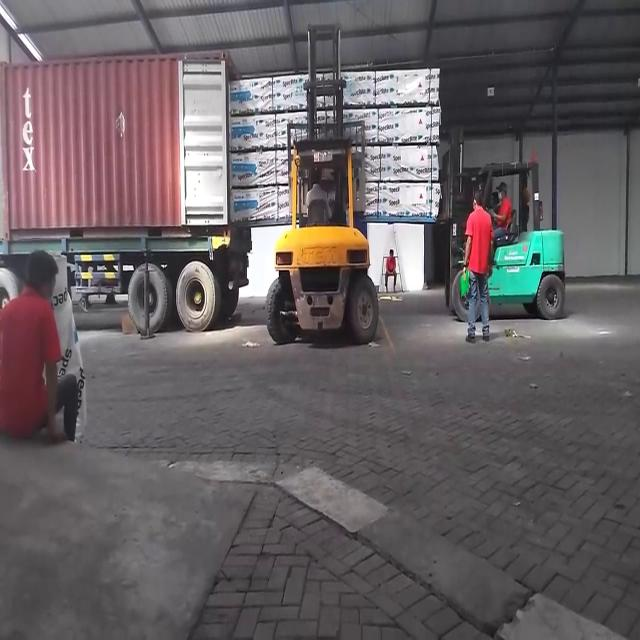Chariot elevateur: (434, 126, 574, 336), (259, 126, 388, 353)
